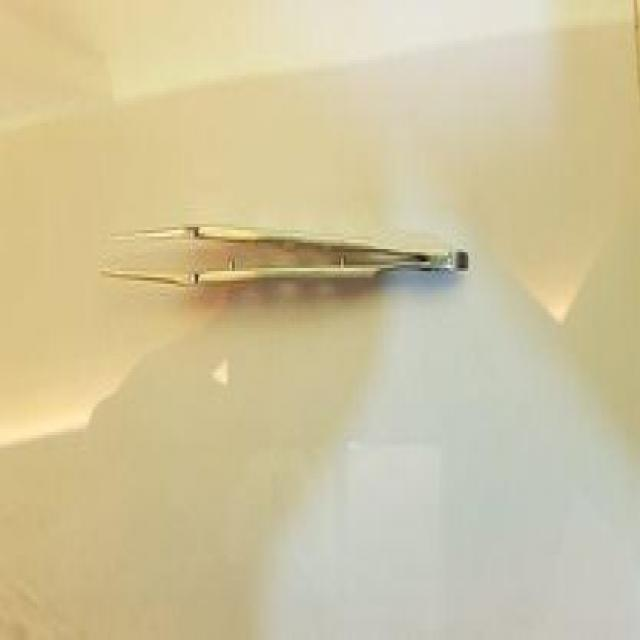Forceps: (95, 208, 473, 306)
